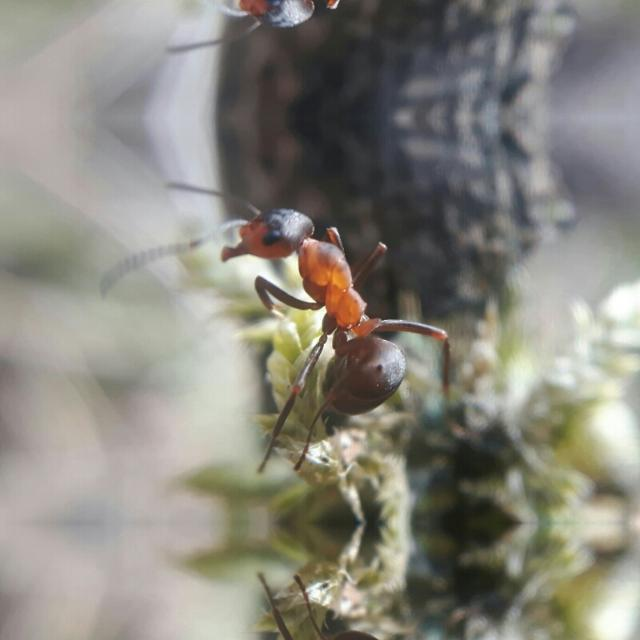Formica: (205, 170, 432, 440), (205, 0, 432, 64)
